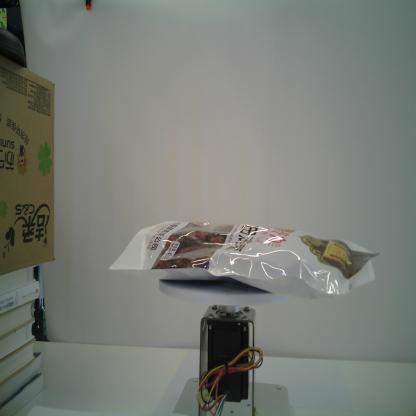Dried Food: (106, 219, 383, 301)
